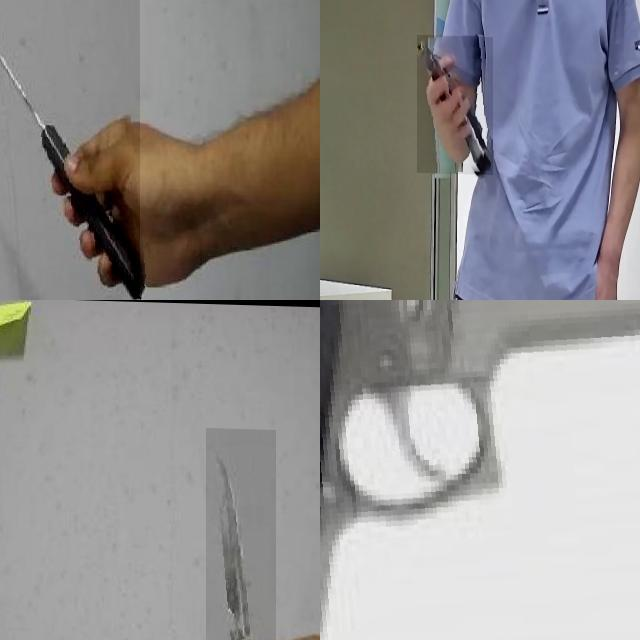-: (0, 0, 140, 300), (206, 426, 276, 640)
gun-knife-thesis - v11 Yolov5 augmented: (320, 300, 640, 640), (417, 34, 493, 174)
